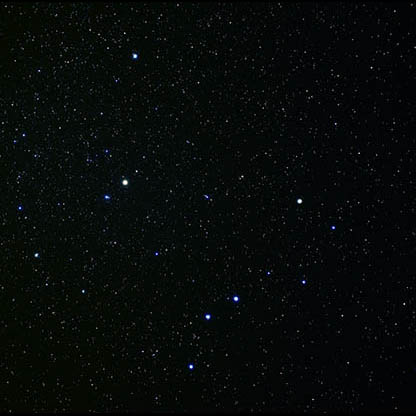Ursa Major: (224, 286, 248, 311), (322, 215, 346, 239), (197, 304, 219, 330), (257, 260, 276, 284), (291, 192, 313, 211), (182, 356, 200, 379), (293, 271, 311, 294)
